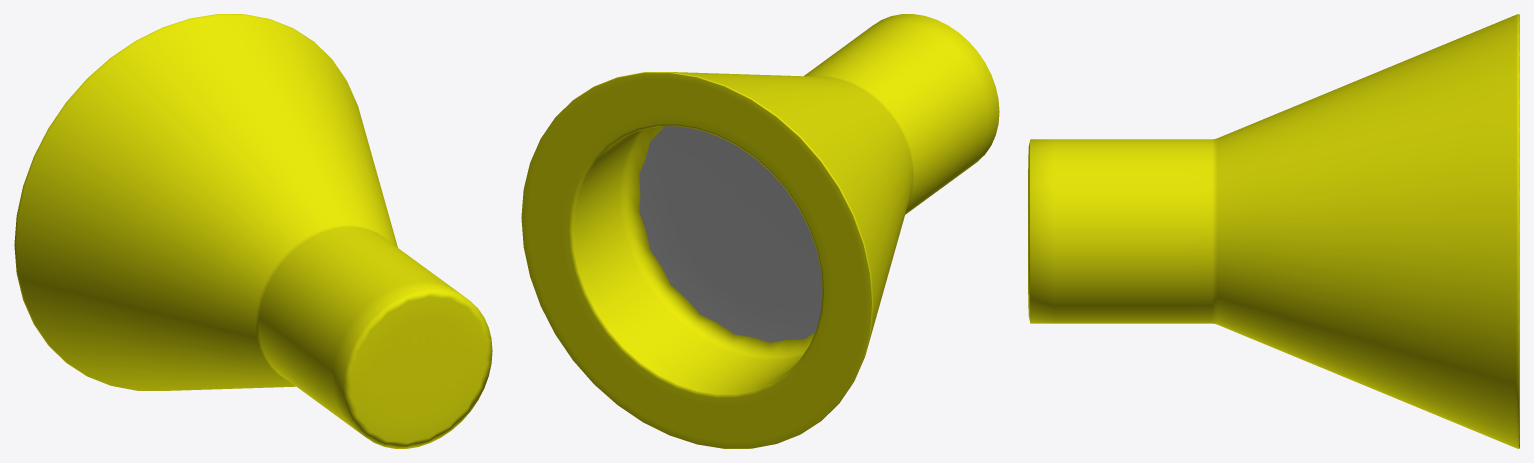
File: ScenicDebris03Broken_06.fbx
The picture shows the model from 3 angles, left to right: view 1: azimuth 30°, elevation 25°; view 2: azimuth 150°, elevation 25°; view 3: azimuth 270°, elevation 25°; orthographic projection. The views are drawn at different scales.
Visible parts, largest first — view 1: polySurface3; view 2: polySurface3; view 3: polySurface3.
Boxes of the visible parts, x1,y1,x2,y2 form: polySurface3: [14, 14, 492, 448]; polySurface3: [521, 14, 999, 448]; polySurface3: [1028, 14, 1519, 448].
Bounding box in the file's own units: 4.66 × 4.66 × 5.27.
